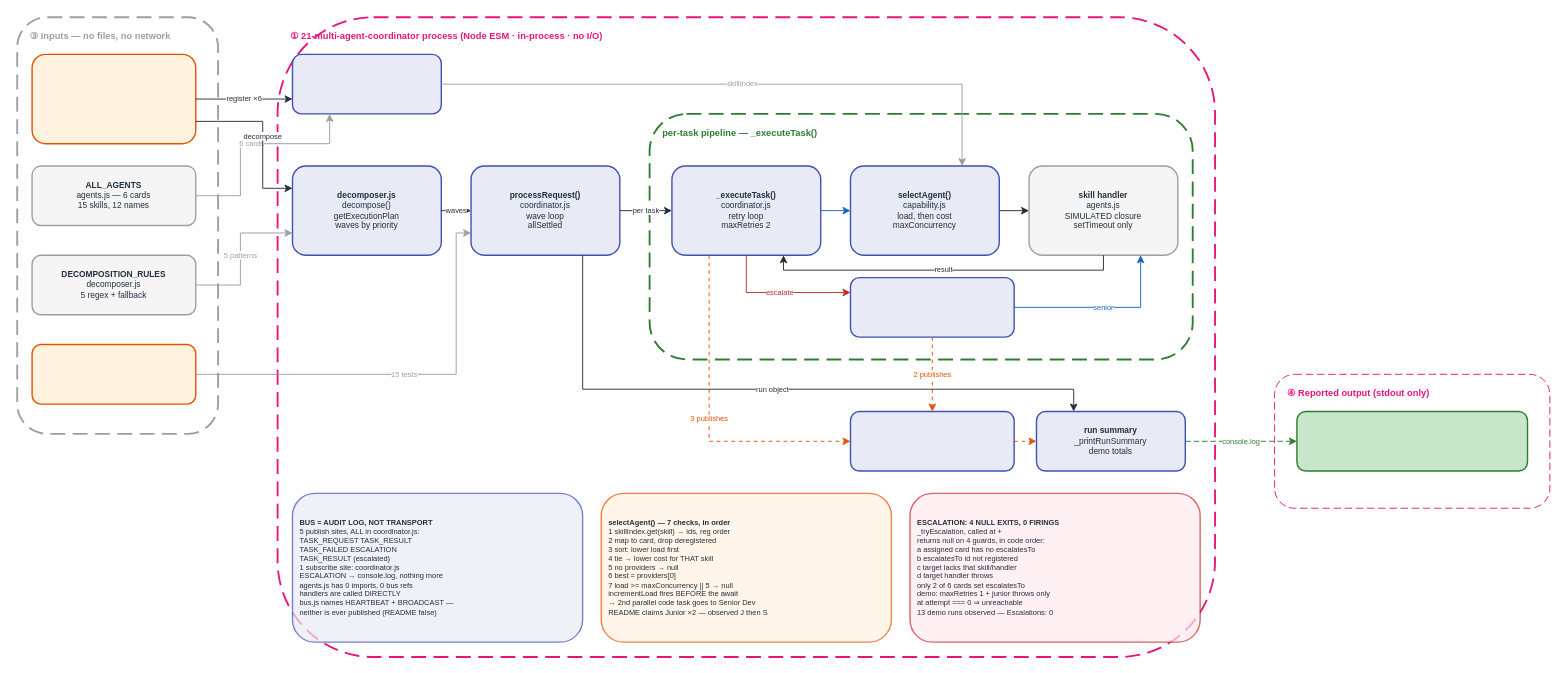
Image size: 1566x673. Some labels were removed from this diagram. The centre of each missing label's shape, as x and y in pixels:
"_tryEscalation() coordinator.js escalatesTo chain" goes at (x=931, y=306).
"CapabilityRegistry register() skillIndex Map" goes at (x=366, y=83).
"coordinator.test.js 2nd entry — 15 tests 4 suites, all pass" goes at (x=113, y=373).
"demo.js CLI entry 4 requests — no args" goes at (x=113, y=98).
"MessageBus bus.js publish history[] cap 500" goes at (x=931, y=440).
"stdout — console.log only no file written, no socket open 0 fs/http refs in src/" goes at (x=1412, y=440).
